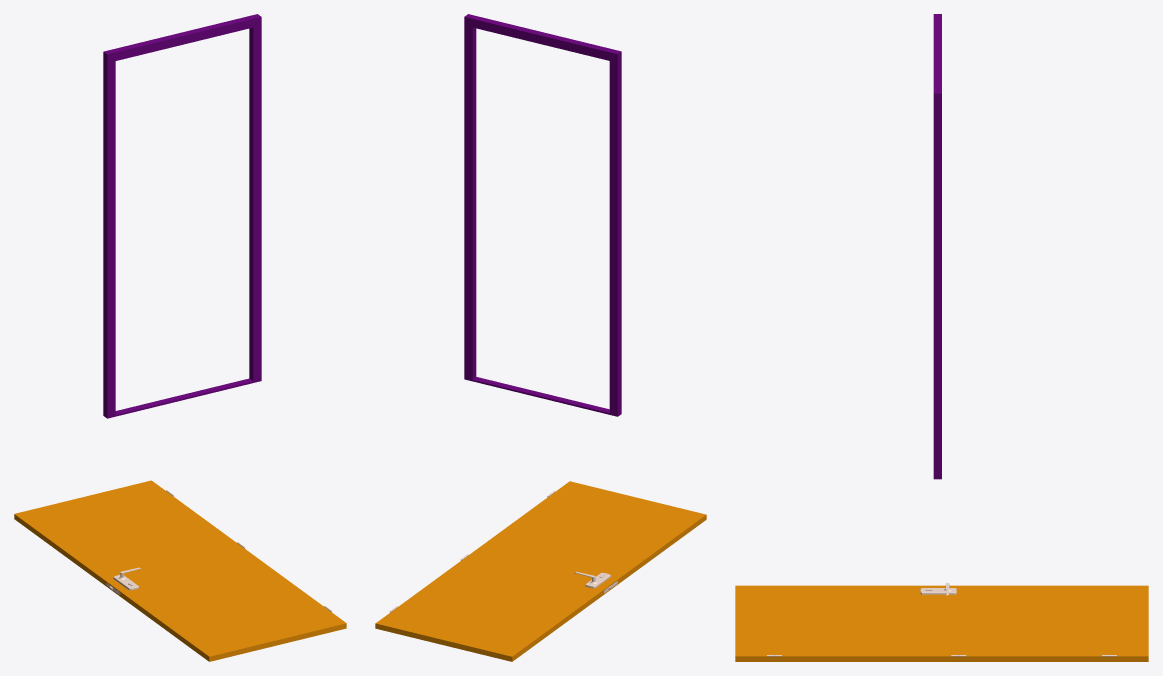
File: PorteAsolo.fbx
The picture shows the model from 3 angles, left to right: view 1: azimuth 30°, elevation 25°; view 2: azimuth 150°, elevation 25°; view 3: azimuth 270°, elevation 25°; orthographic projection. The views are drawn at different scales.
Parts seen in each view (by area): view 1: SM_Door_A, SM_Door_Frame_A; view 2: SM_Door_A, SM_Door_Frame_A; view 3: SM_Door_A, SM_Door_Frame_A.
Boxes of the visible parts, bbox=[...] form: SM_Door_A: bbox=[14, 480, 346, 661]; SM_Door_Frame_A: bbox=[103, 14, 261, 418]; SM_Door_A: bbox=[375, 481, 706, 661]; SM_Door_Frame_A: bbox=[464, 14, 621, 416]; SM_Door_A: bbox=[735, 583, 1148, 661]; SM_Door_Frame_A: bbox=[933, 14, 941, 479].
Bounding box in the file's own units: 93 × 316 × 204.
